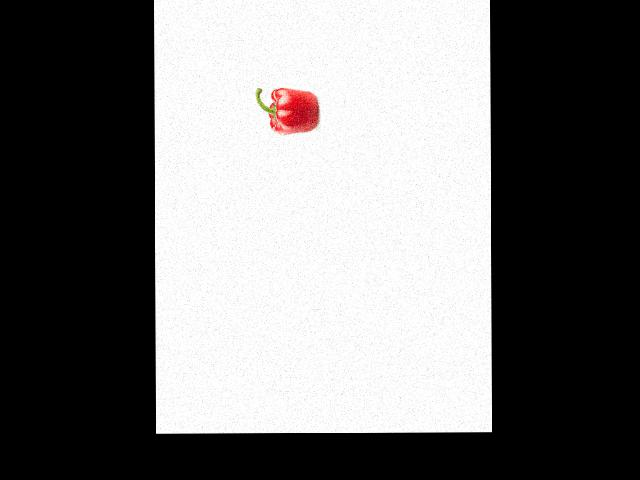bell_pepper: (255, 86, 319, 134)
